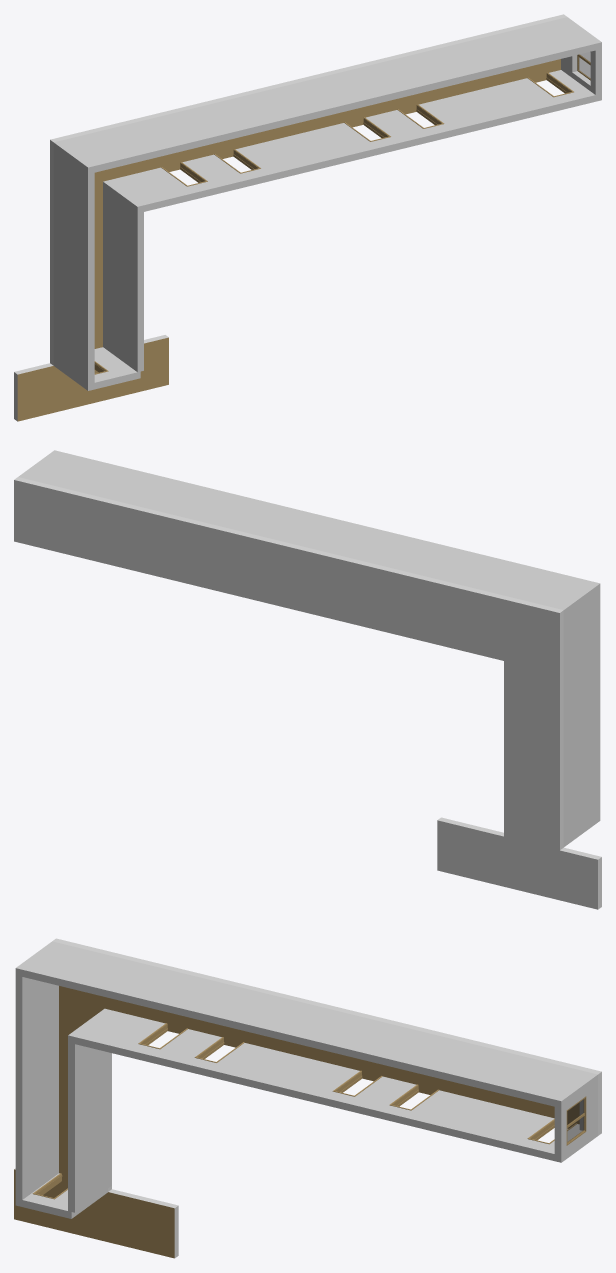
Rendered from hotl-corid.fbx.
3 views of the same model, one above another, from view 1: azimuth 30°, elevation 25°; view 2: azimuth 150°, elevation 25°; view 3: azimuth 330°, elevation 25° (orthographic). The views are drawn at different scales.
Visible parts, largest first — view 1: 99:1:1, 56:1:8, 69:1:1, 124:1:1, 56:1:8_2, 105:1:1, 109:1:1, 107:1:1, 101:1:1, 111:1:1, 123:1:1, 113:1:1 (+1 smaller); view 2: 56:1:8_2, 99:1:1, 69:1:1; view 3: 99:1:1, 56:1:8, 69:1:1, 93:1:1, 105:1:1, 107:1:1, 109:1:1, 101:1:1, 111:1:1, 56:1:8_2, 113:1:1, 123:1:1 (+1 smaller).
Part boxes in pixels (x1=…): 99:1:1: x1=54, y1=17, x2=601, y2=172; 56:1:8: x1=17, y1=59, x2=560, y2=421; 69:1:1: x1=53, y1=142, x2=94, y2=390; 124:1:1: x1=103, y1=181, x2=140, y2=372; 56:1:8_2: x1=14, y1=14, x2=566, y2=421; 105:1:1: x1=381, y1=91, x2=507, y2=145; 109:1:1: x1=198, y1=136, x2=323, y2=190; 107:1:1: x1=290, y1=114, x2=415, y2=167; 101:1:1: x1=473, y1=70, x2=601, y2=123; 111:1:1: x1=110, y1=158, x2=232, y2=211; 123:1:1: x1=88, y1=347, x2=140, y2=390; 113:1:1: x1=561, y1=42, x2=601, y2=94; 56:1:8_2: x1=14, y1=477, x2=601, y2=909; 99:1:1: x1=18, y1=450, x2=599, y2=609; 69:1:1: x1=563, y1=584, x2=600, y2=847; 99:1:1: x1=16, y1=941, x2=597, y2=1106; 56:1:8: x1=14, y1=986, x2=579, y2=1258; 69:1:1: x1=15, y1=968, x2=58, y2=1204; 93:1:1: x1=71, y1=1009, x2=111, y2=1212; 105:1:1: x1=363, y1=1080, x2=496, y2=1138; 107:1:1: x1=266, y1=1057, x2=399, y2=1114; 109:1:1: x1=168, y1=1033, x2=301, y2=1090; 101:1:1: x1=460, y1=1104, x2=597, y2=1162; 111:1:1: x1=75, y1=1010, x2=204, y2=1066; 56:1:8_2: x1=14, y1=938, x2=601, y2=1258; 113:1:1: x1=554, y1=1075, x2=597, y2=1155; 123:1:1: x1=16, y1=1173, x2=107, y2=1218.
Bounding box in the file's own units: 25.8 × 12.13 × 3.1.
